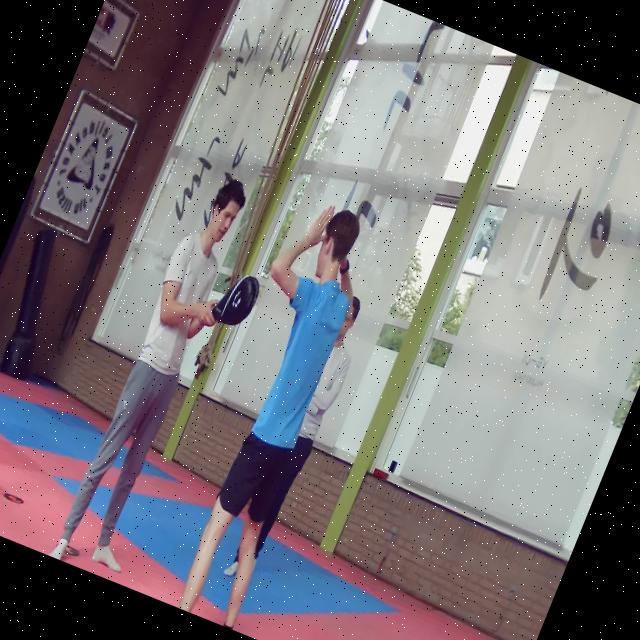paddle: (212, 277, 259, 325)
